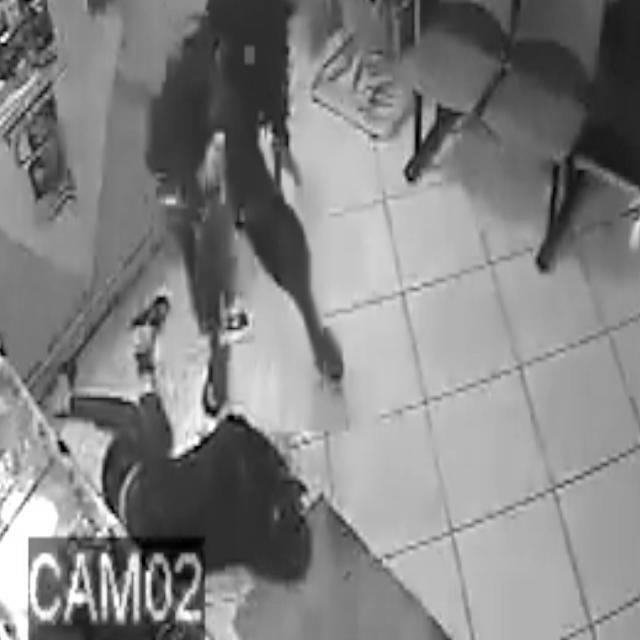weapon: (157, 194, 179, 206)
